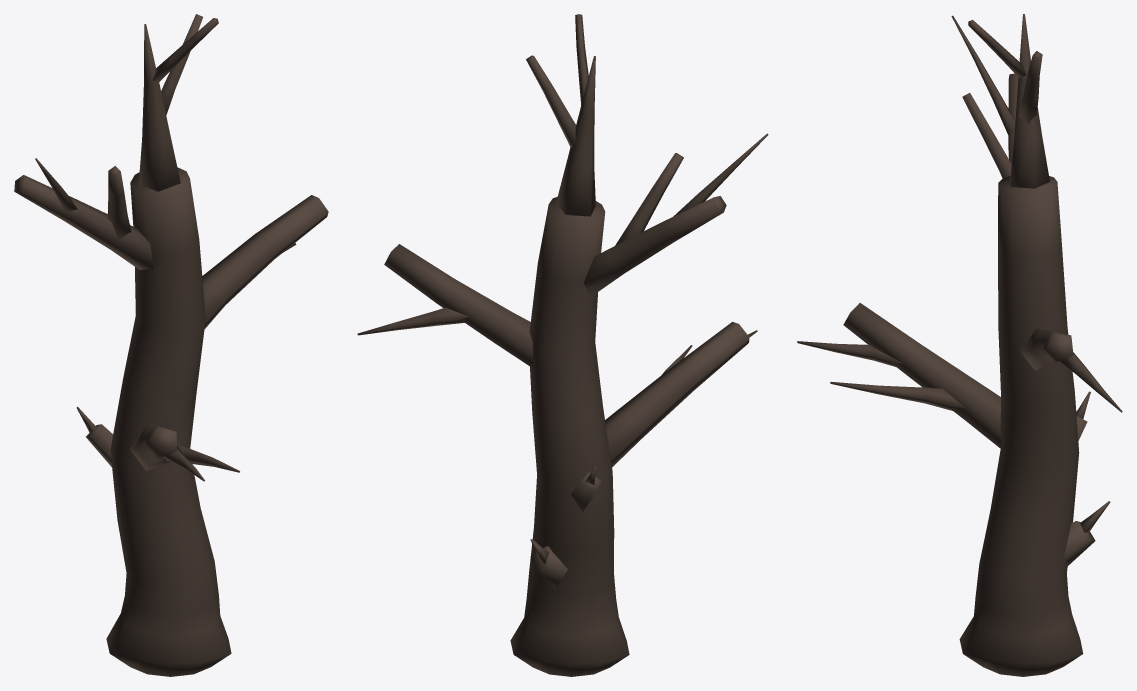
The model's file is deadtree.lod1.glb.
3 renders of one model, left to right at view 1: azimuth 30°, elevation 25°; view 2: azimuth 150°, elevation 25°; view 3: azimuth 270°, elevation 25°, orthographic. The views are drawn at different scales.
Visible parts, largest first — view 1: deadtree_s1_lod1; view 2: deadtree_s1_lod1; view 3: deadtree_s1_lod1.
Part boxes in pixels (<box>): deadtree_s1_lod1: <box>14,14,328,676</box>; deadtree_s1_lod1: <box>357,14,768,676</box>; deadtree_s1_lod1: <box>797,14,1122,676</box>.
Bounding box in the file's own units: 4.25 × 7.67 × 3.5.
